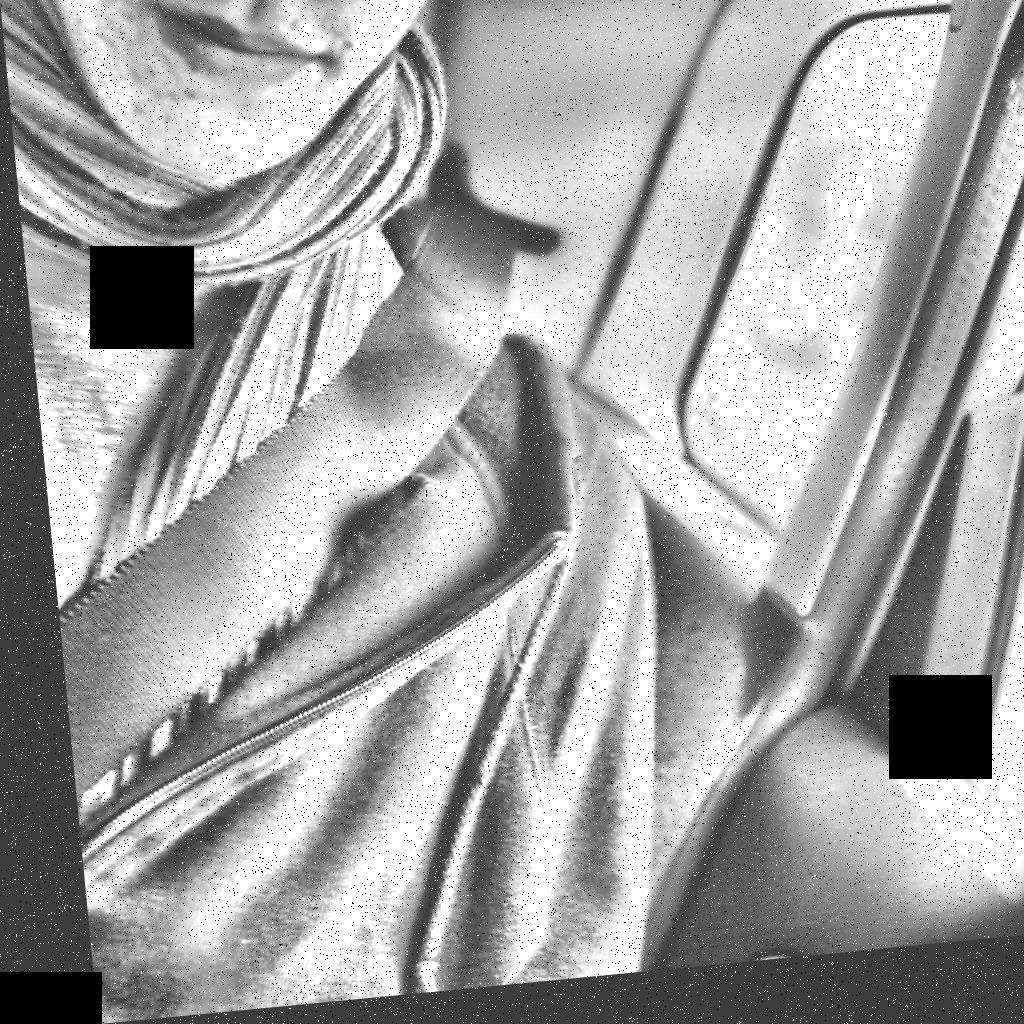seatbelt: (21, 216, 624, 797)
